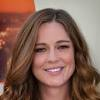face: (30, 37, 80, 89)
